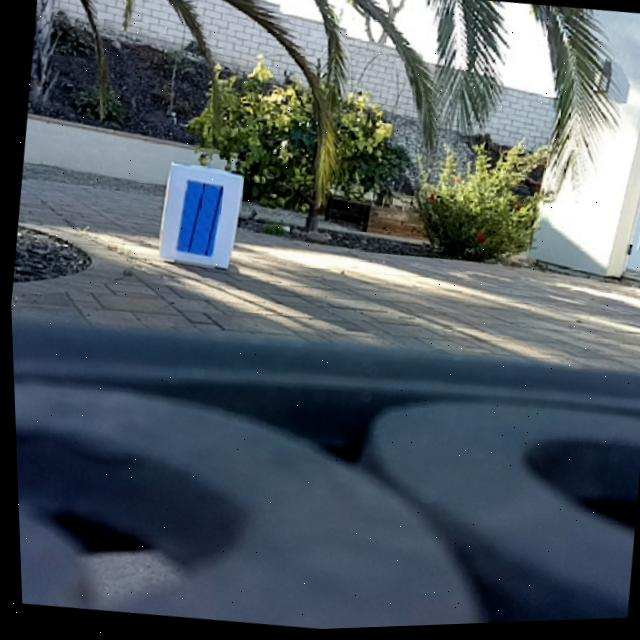led: (170, 177, 226, 262)
